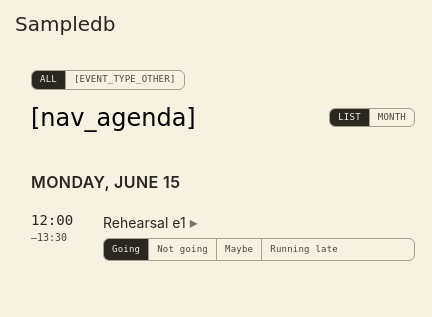
+page — the saved cue fires on reconcile, per event (#326) › a successfully CLEARED answer announces saved too — reconciled-null looks exactly like never-answered, the cue is the only distinguisher
The image size is (432, 317).
Click the button with test id "rsvp-btn-going" at (127,249), box [104,238,149,260]
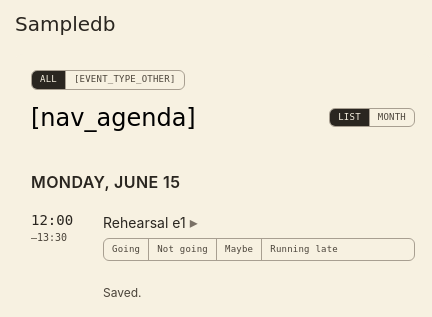
Now the message with test id "rsvp-saved-status" reads "Saved.", box [103,285,142,300]
